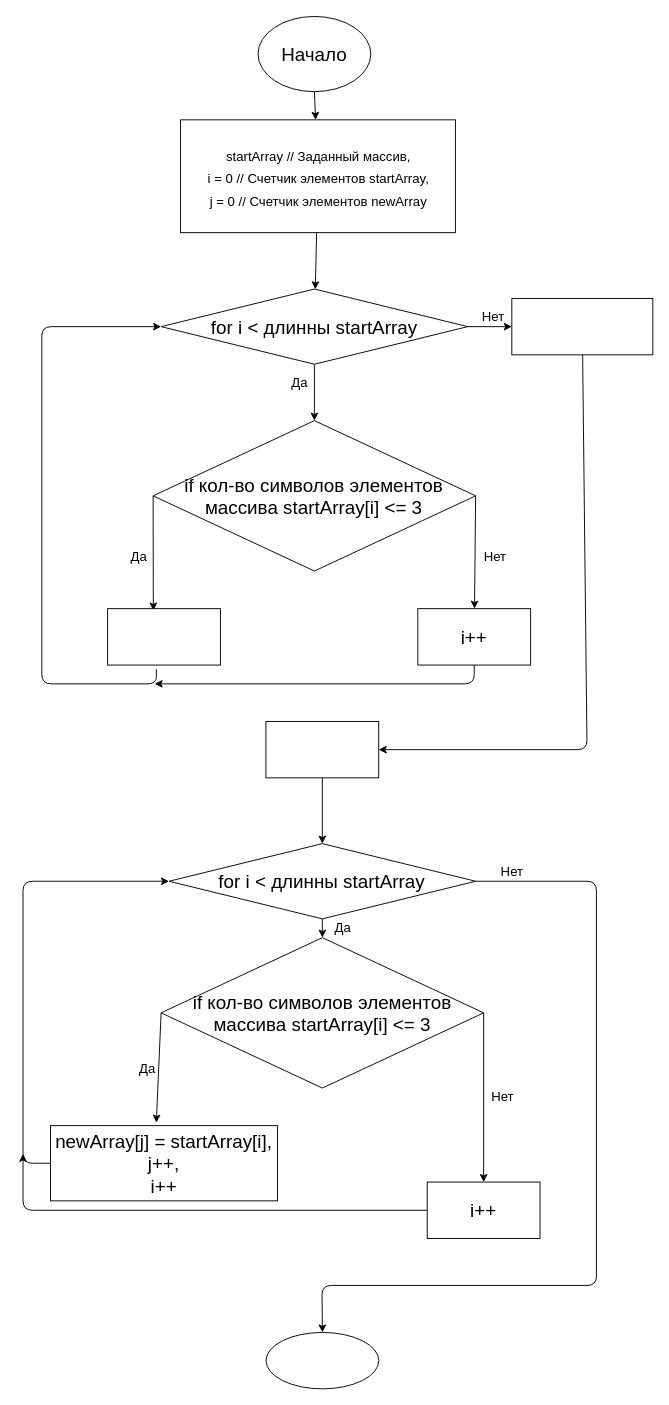
This 669x1405 diagram has some shape labels left out. Here are the shapes that lost their labels. From the top down, the box of each, then its label:
(511, 298, 653, 355): newArray // Новый массив с j кол-вом эллементов
(107, 608, 220, 665): j++, i++
(265, 721, 379, 778): i = 0, j = 0
(265, 1332, 379, 1389): Конец
